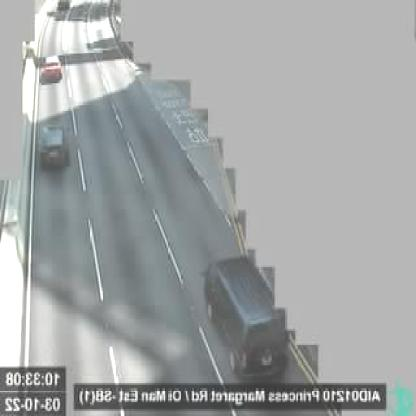Car: (200, 253, 286, 378), (38, 122, 70, 166), (42, 56, 66, 83)
